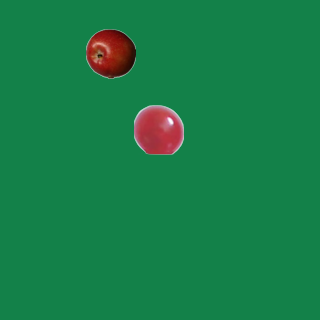Apple Braeburn: (85, 28, 135, 78)
Redcurrant: (133, 104, 183, 154)
